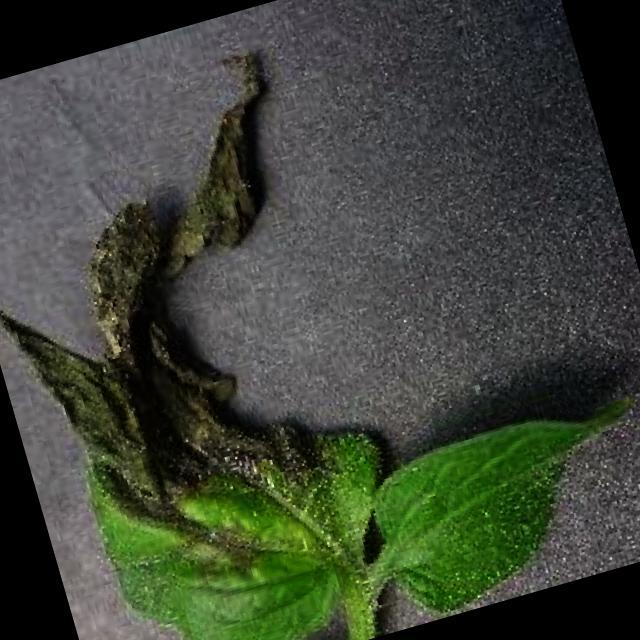Tomato healthy leaf: (354, 385, 640, 624)
Tomato late blight leaf: (0, 37, 425, 640)
